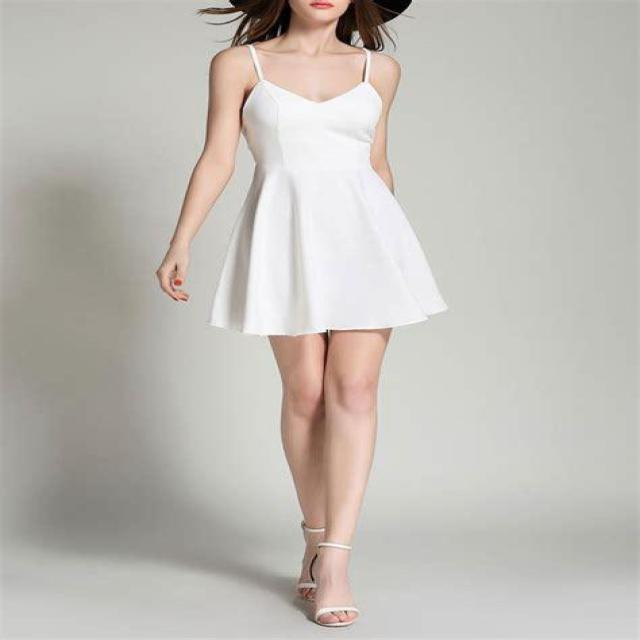dress: (207, 45, 453, 335)
